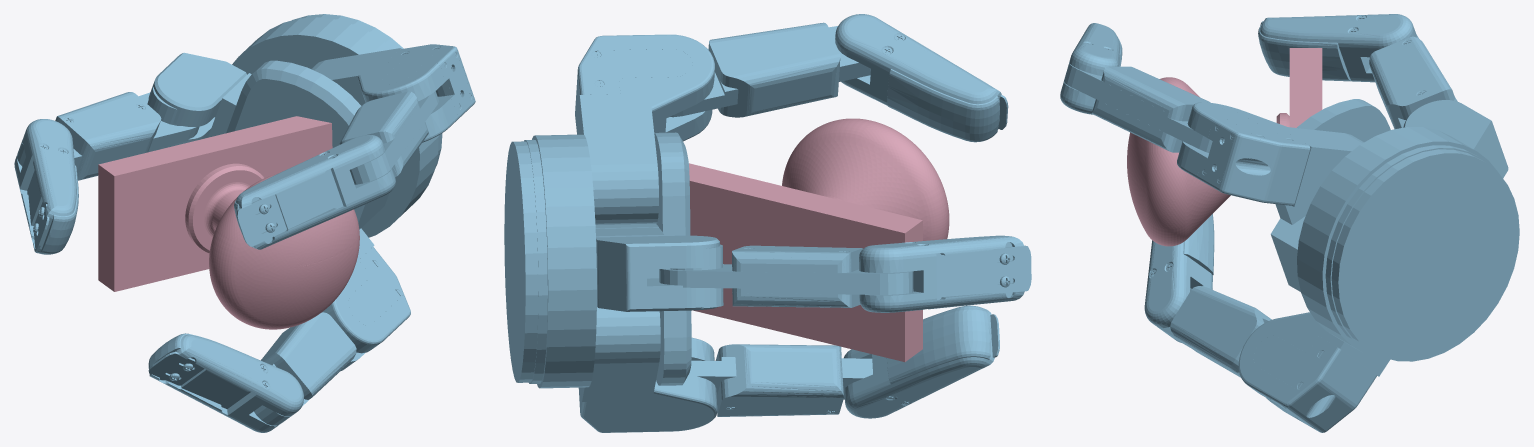
3 renders of one model, left to right at view 1: azimuth 30°, elevation 25°; view 2: azimuth 150°, elevation 25°; view 3: azimuth 270°, elevation 25°, orthographic. The views are drawn at different scales.
Parts seen in each view (by area): view 1: world, door_knob.stl; view 2: world, door_knob.stl; view 3: world, door_knob.stl.
Part boxes in pixels (left/top/right/bottom): world: left=14, top=14, right=475, bottom=432; door_knob.stl: left=98, top=116, right=359, bottom=329; world: left=504, top=14, right=1031, bottom=432; door_knob.stl: left=689, top=118, right=949, bottom=362; world: left=1060, top=14, right=1519, bottom=432; door_knob.stl: left=1127, top=48, right=1322, bottom=246.
Bounding box in the file's own units: 0.1982 × 0.1375 × 0.1765.
